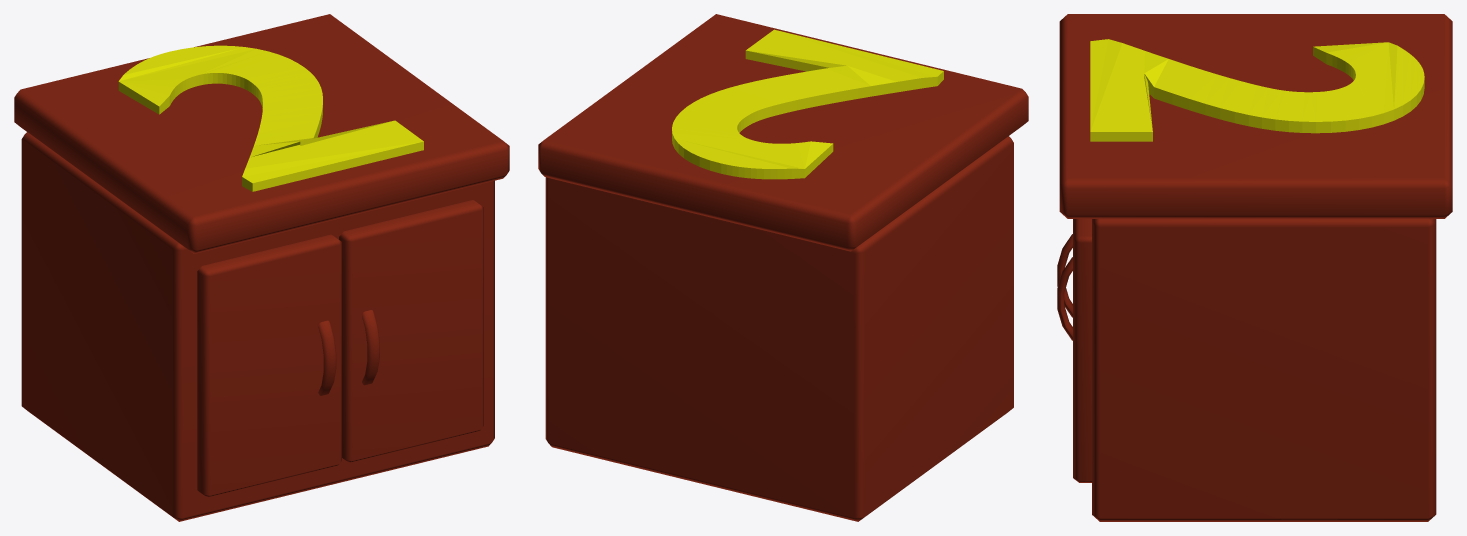
3 renders of one model, left to right at view 1: azimuth 30°, elevation 25°; view 2: azimuth 150°, elevation 25°; view 3: azimuth 270°, elevation 25°, orthographic. The views are drawn at different scales.
Parts seen in each view (by area): view 1: Cube.006, Text.001; view 2: Cube.006, Text.001; view 3: Cube.006, Text.001.
Boxes of the visible parts, x1,y1,x2,y2 form: Cube.006: [14, 14, 509, 521]; Text.001: [118, 45, 423, 191]; Cube.006: [538, 14, 1028, 521]; Text.001: [672, 29, 943, 179]; Cube.006: [1057, 14, 1452, 521]; Text.001: [1090, 39, 1424, 141].
Bounding box in the file's own units: 89.87 × 88.19 × 87.83.
